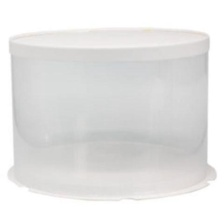plastic_box: (0, 18, 224, 206)
